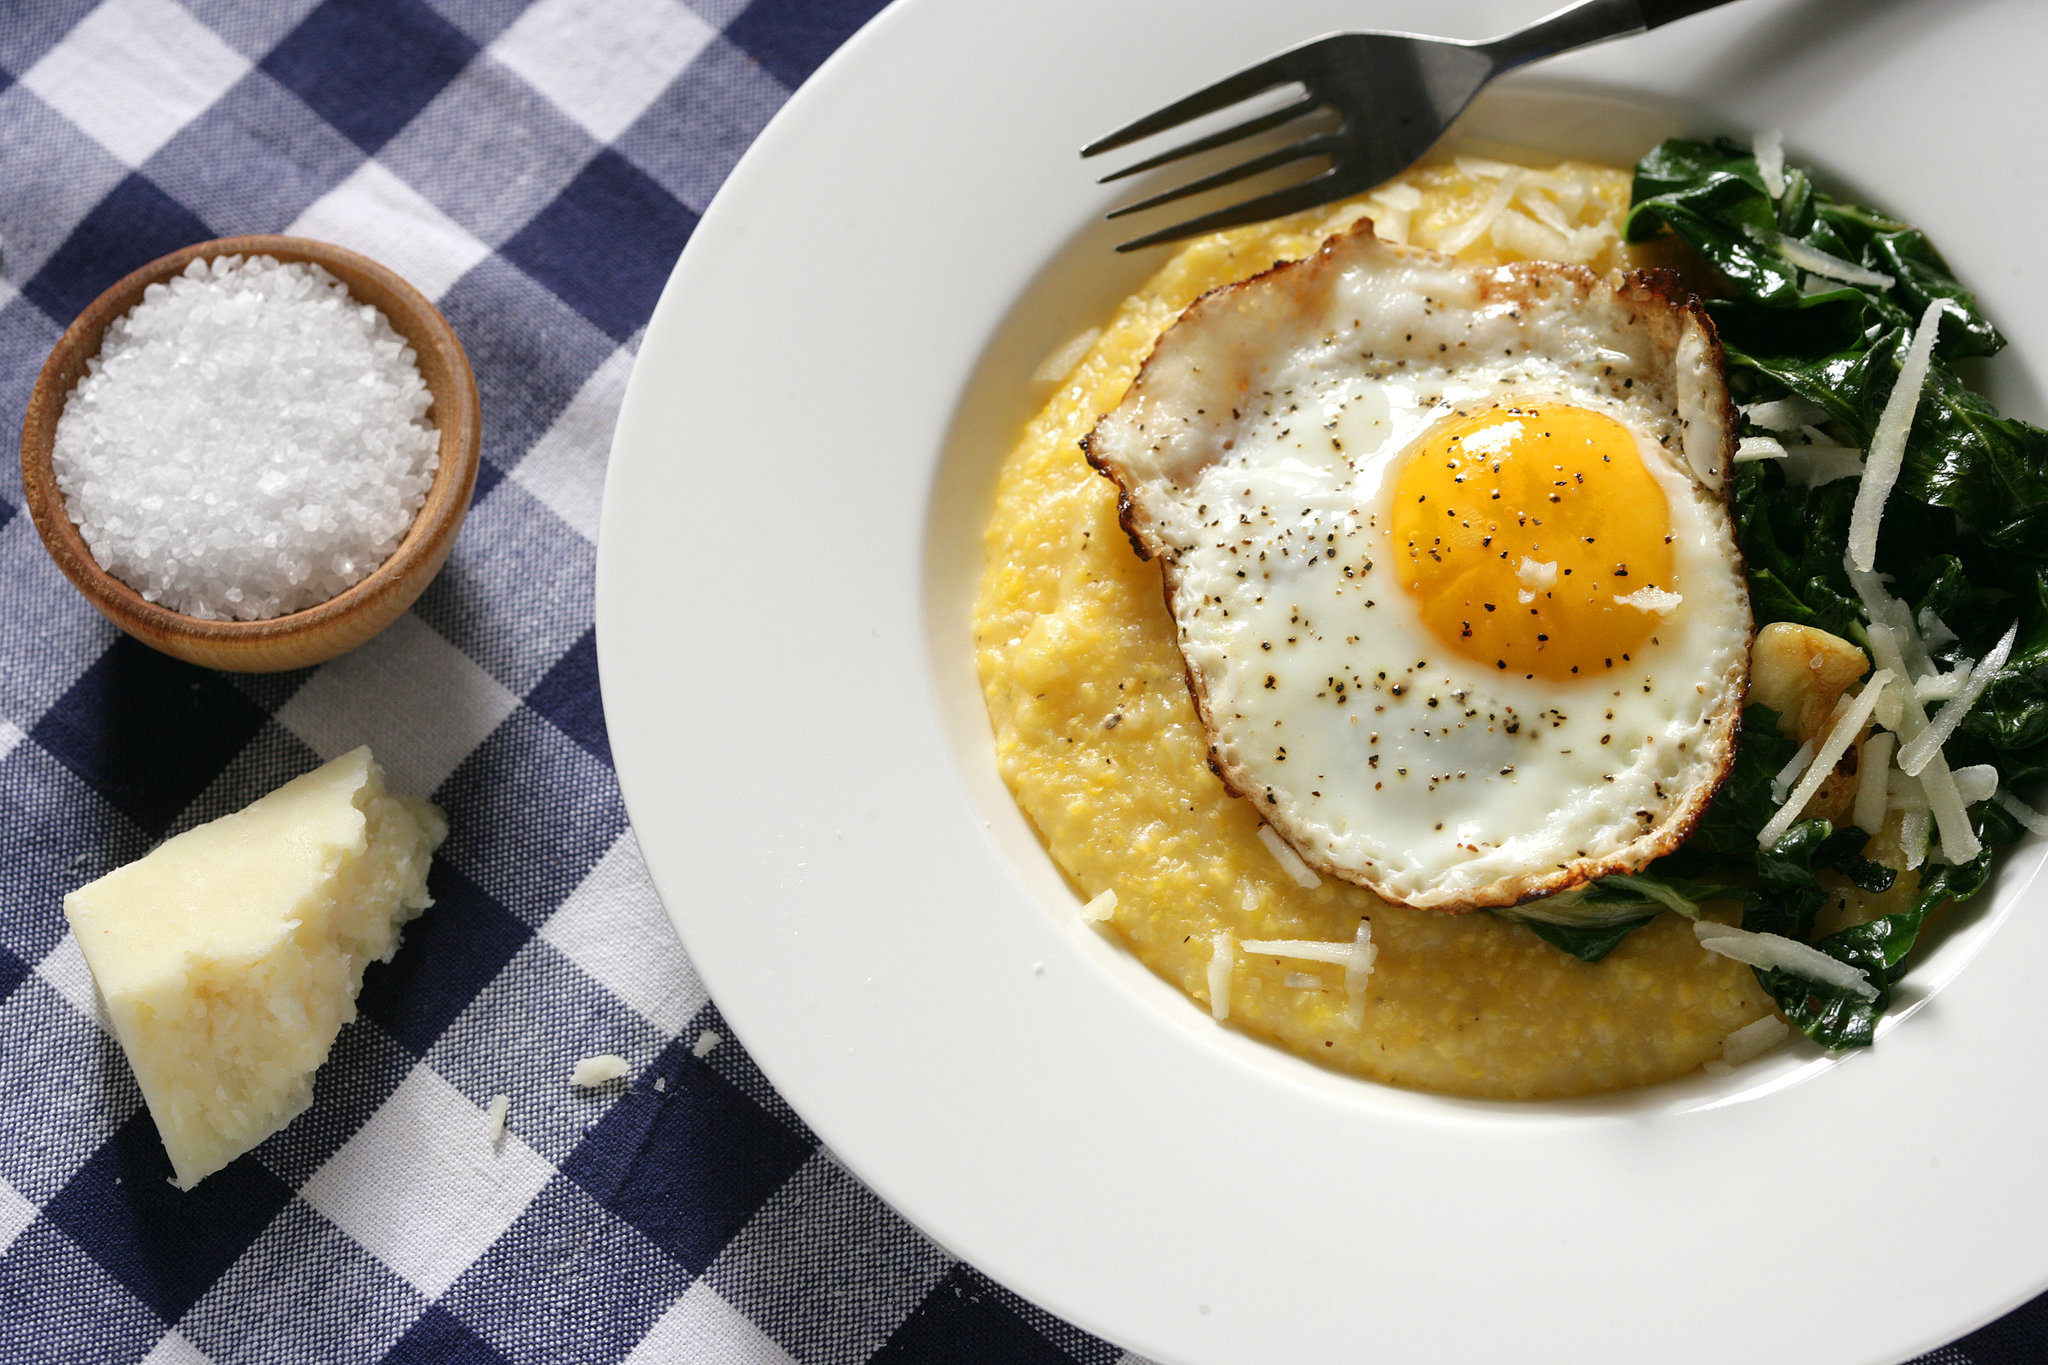fried egg: (1134, 302, 1710, 894)
